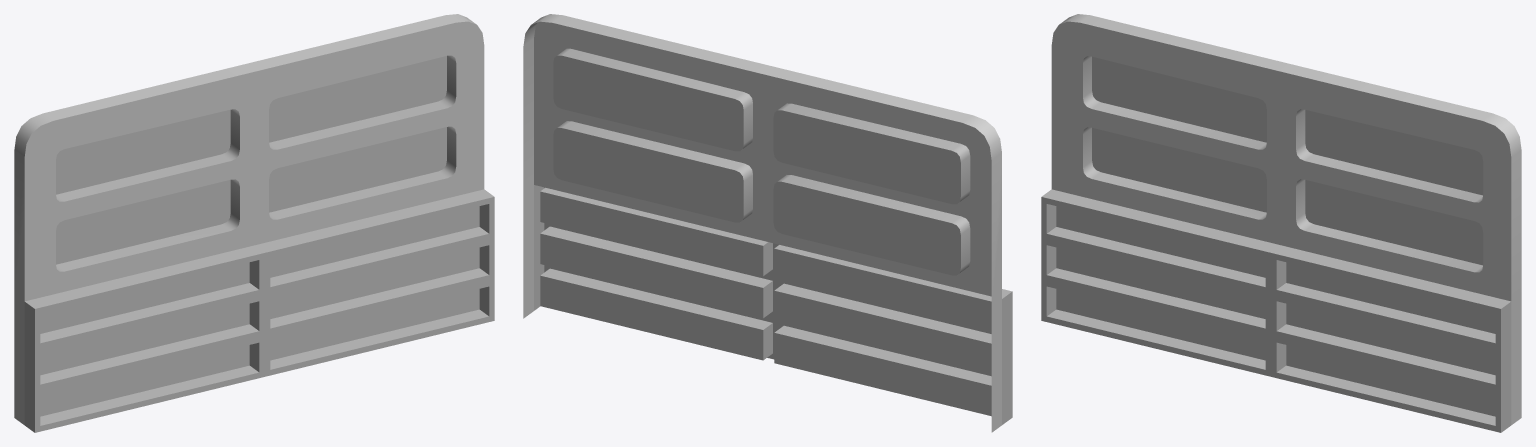
Rendered from Bar01Rack.FBX.
3 renders of one model, left to right at view 1: azimuth 30°, elevation 25°; view 2: azimuth 150°, elevation 25°; view 3: azimuth 330°, elevation 25°, orthographic.
Visible parts, largest first — view 1: Bar01Rack; view 2: Bar01Rack; view 3: Bar01Rack.
Part boxes in pixels (x1,y1,x2,y2): Bar01Rack: (14,14,494,432); Bar01Rack: (523,14,1012,432); Bar01Rack: (1041,14,1521,432).
Bounding box in the file's own units: 388 × 240 × 30.
